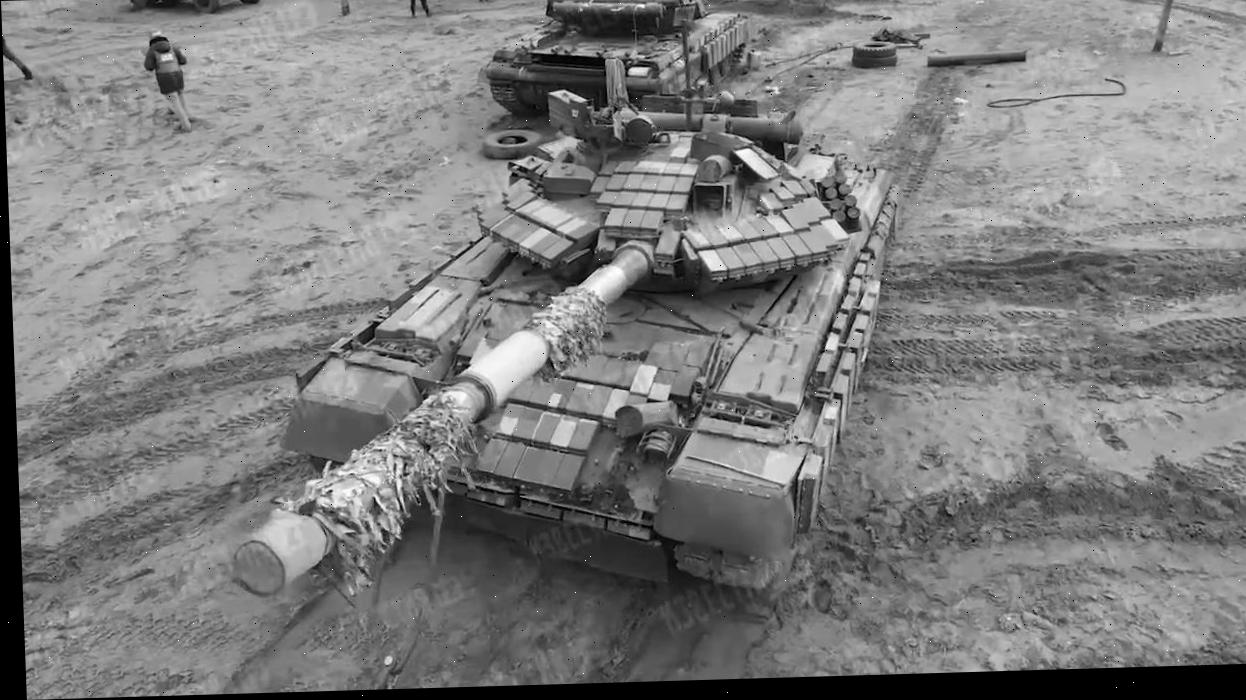tank: (212, 77, 917, 625), (485, 0, 758, 124)
truck: (141, 31, 190, 132), (0, 0, 37, 90)
